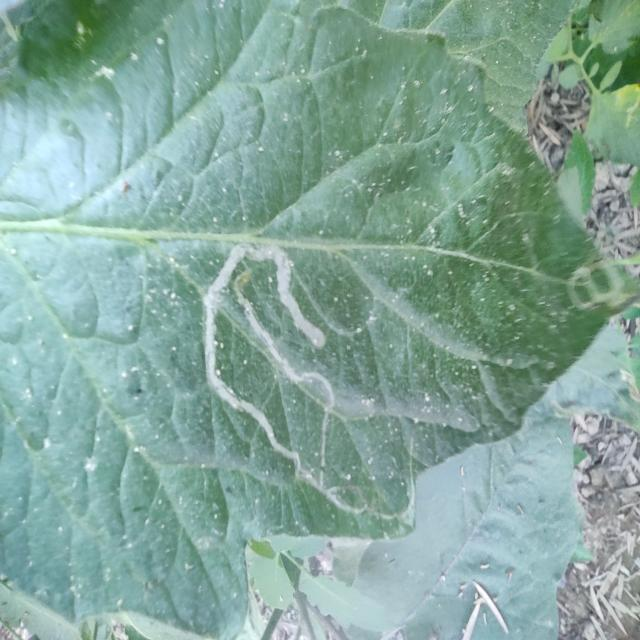Tuta absoluta: (191, 235, 349, 520)
